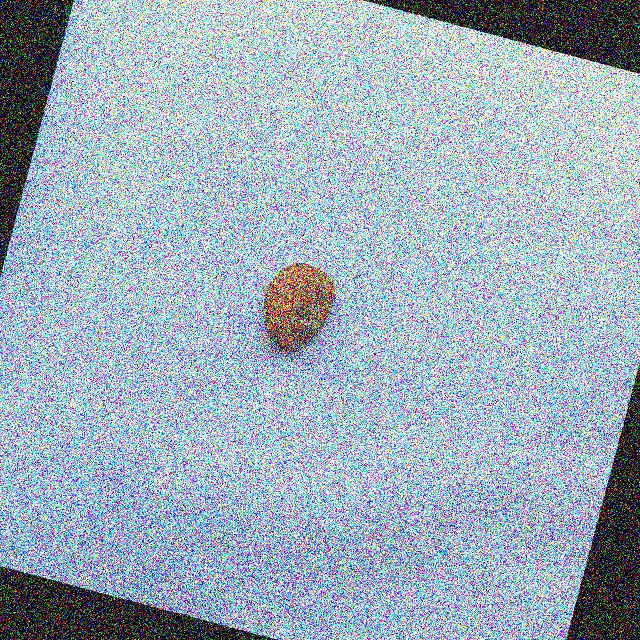grade3: (250, 251, 348, 365)
